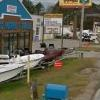Boat: (0, 45, 49, 85)
